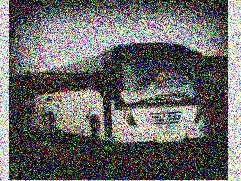bus: (32, 43, 210, 146)
